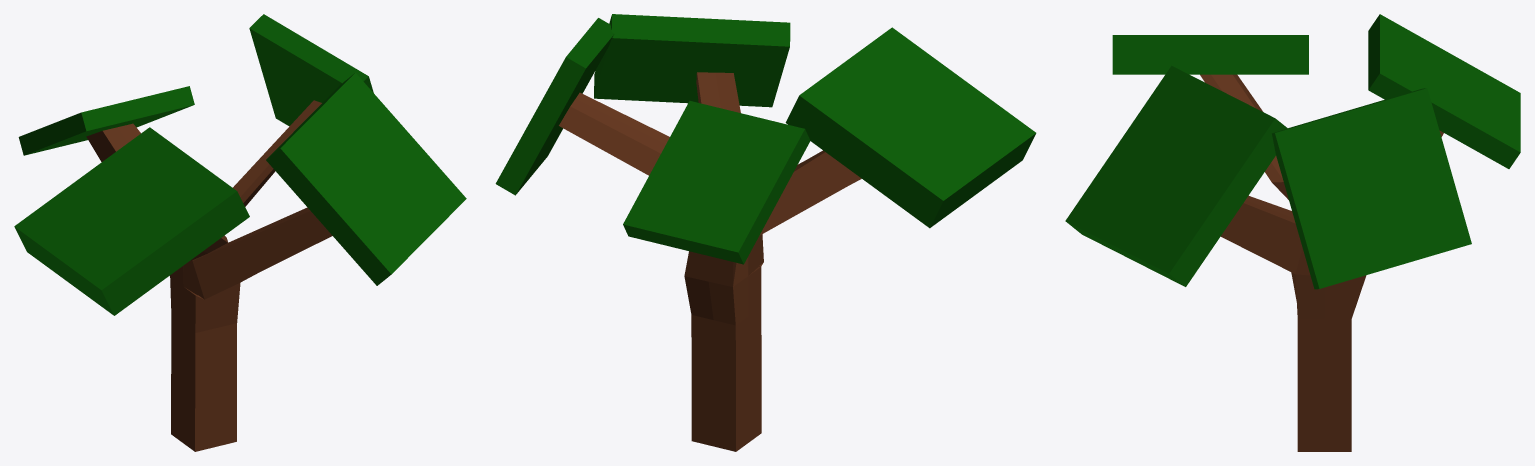
The model's file is tree.gltf.
3 views of the same model, side by side, from view 1: azimuth 30°, elevation 25°; view 2: azimuth 150°, elevation 25°; view 3: azimuth 270°, elevation 25° (orthographic). The views are drawn at different scales.
Parts seen in each view (by area): view 1: Cube.002, Cube.004, Cube, Cube.003, Cube.001; view 2: Cube.002, Cube, Cube.001, Cube.004, Cube.003; view 3: Cube.003, Cube.004, Cube, Cube.001, Cube.002.
Part boxes in pixels (x1,y1,x2,y2): Cube.002: (14,127,249,315); Cube.004: (266,73,466,285); Cube: (86,100,332,451); Cube.003: (249,14,373,126); Cube.001: (18,86,194,155); Cube.002: (785,27,1036,228); Cube: (559,72,861,451); Cube.001: (623,101,810,264); Cube.004: (594,14,790,107); Cube.003: (495,18,614,195); Cube.003: (1272,88,1471,289); Cube.004: (1065,65,1287,286); Cube: (1200,74,1443,451); Cube.001: (1368,14,1520,168); Cube.002: (1112,35,1308,74).
Size of the model in its own units: 18.73 by 16.73 by 16.84.
